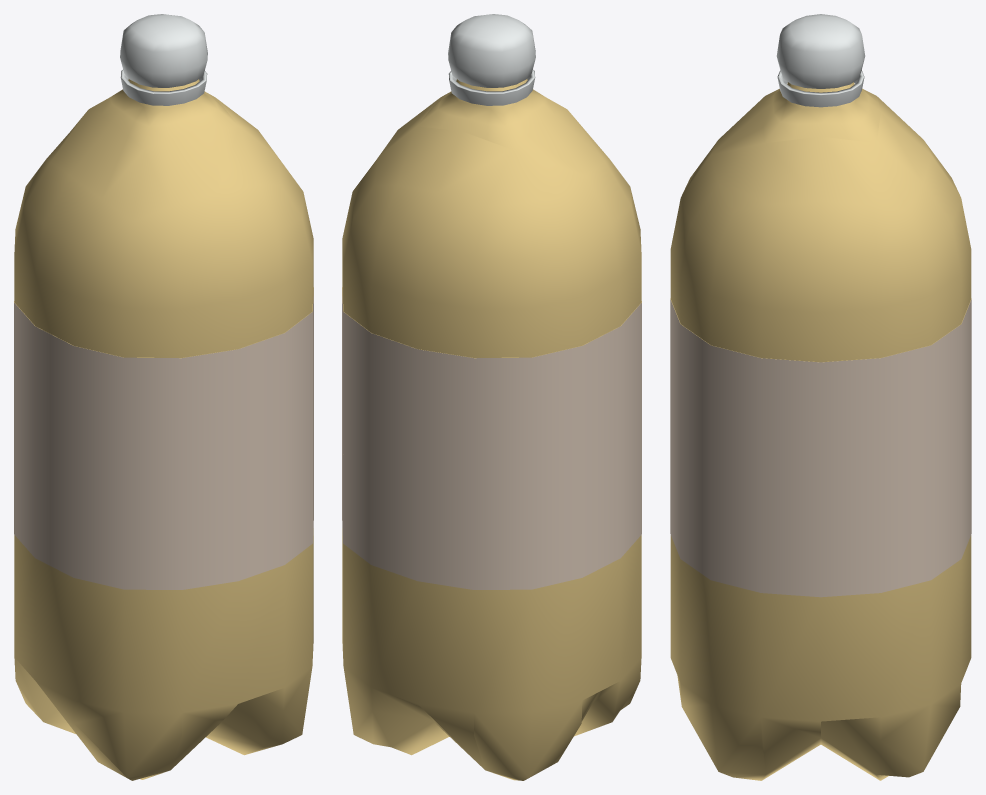
File: OrangeSoda.fbx
3 views of the same model, side by side, from view 1: azimuth 30°, elevation 25°; view 2: azimuth 150°, elevation 25°; view 3: azimuth 270°, elevation 25° (orthographic).
Visible parts, largest first — view 1: pCube6; view 2: pCube6; view 3: pCube6.
Boxes of the visible parts, x1,y1,x2,y2 form: pCube6: (14,14,313,780); pCube6: (342,14,641,780); pCube6: (670,14,971,780).
Bounding box in the file's own units: 0.8804 × 2.37 × 0.8804.
